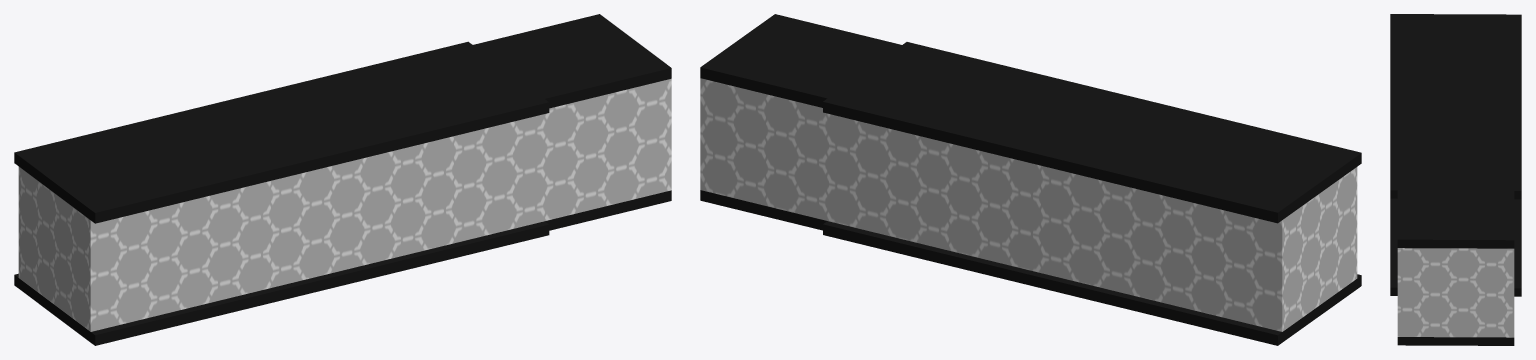
Rendered from Wall_90_New.fbx.
3 views of the same model, side by side, from view 1: azimuth 30°, elevation 25°; view 2: azimuth 150°, elevation 25°; view 3: azimuth 270°, elevation 25° (orthographic). The views are drawn at different scales.
Parts seen in each view (by area): view 1: wall_90; view 2: wall_90; view 3: wall_90.
Boxes of the visible parts, x1,y1,x2,y2 form: wall_90: (14,14,671,345); wall_90: (700,14,1361,345); wall_90: (1390,14,1521,345).
Bounding box in the file's own units: 373 × 81.37 × 91.37.
